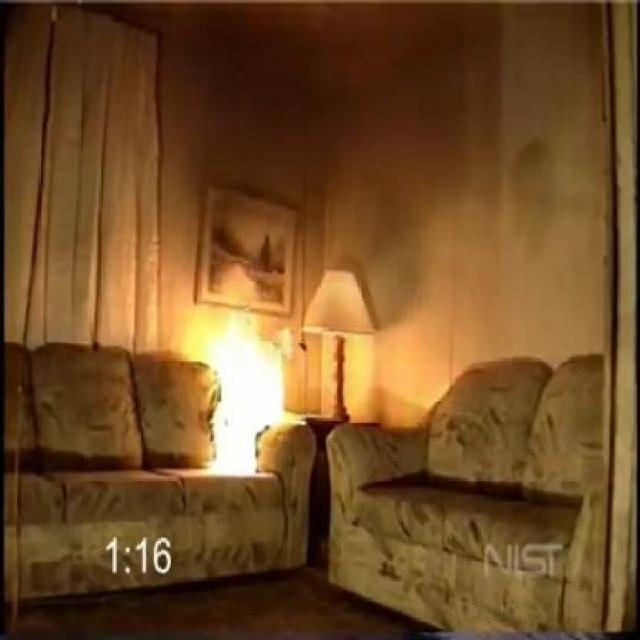Fire: (192, 294, 285, 477)
Smoke: (171, 8, 450, 318)
